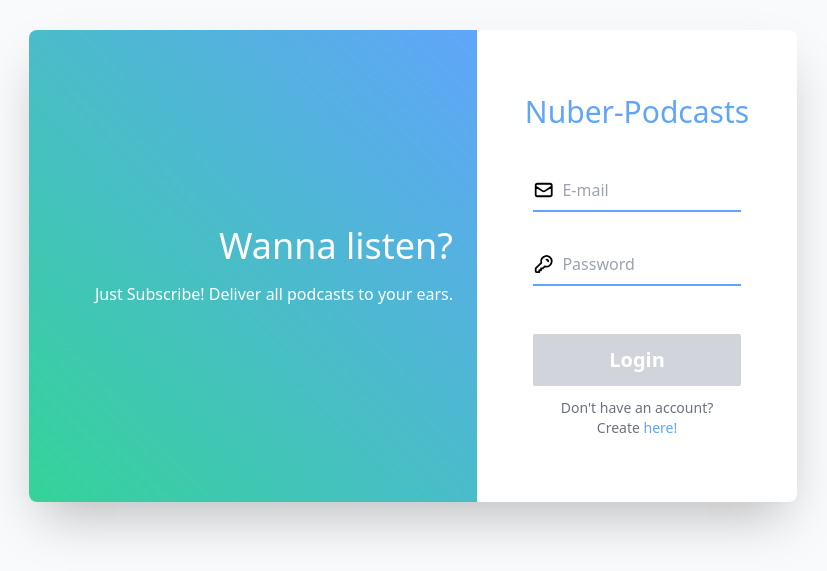
it: <Login /> › display email valiadation error message
The width and height of the screenshot is (827, 571).
Type "wrong@emai" into the field with placeholder "E-mail" at [648, 190], box x1=554 y1=178 x2=741 y2=202
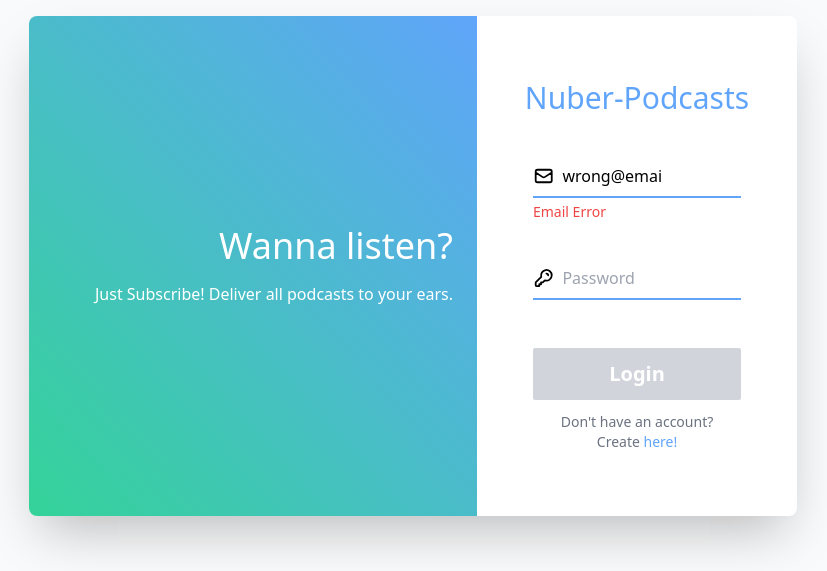
Check: the message reads "Email Error", box x1=533 y1=202 x2=606 y2=221
